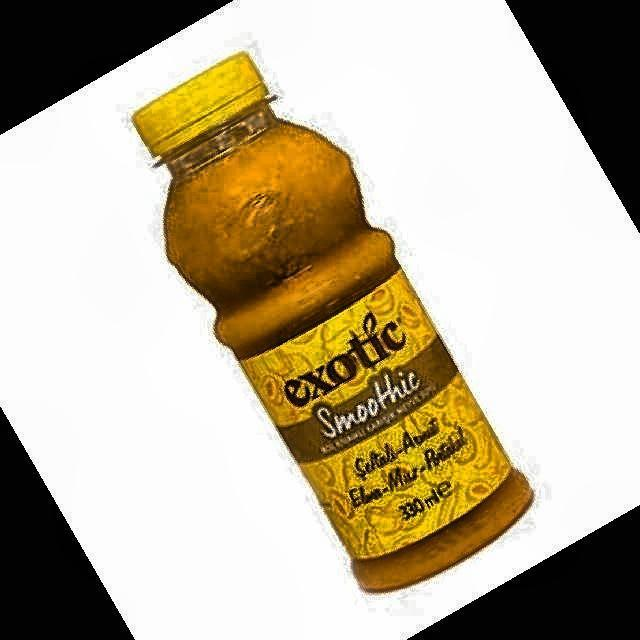plastic: (132, 54, 532, 590)
